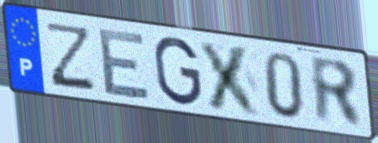0: (260, 50, 307, 121)
E: (97, 26, 153, 101)
G: (151, 35, 204, 108)
R: (307, 53, 367, 131)
X: (196, 38, 264, 119)
Z: (46, 20, 97, 93)
